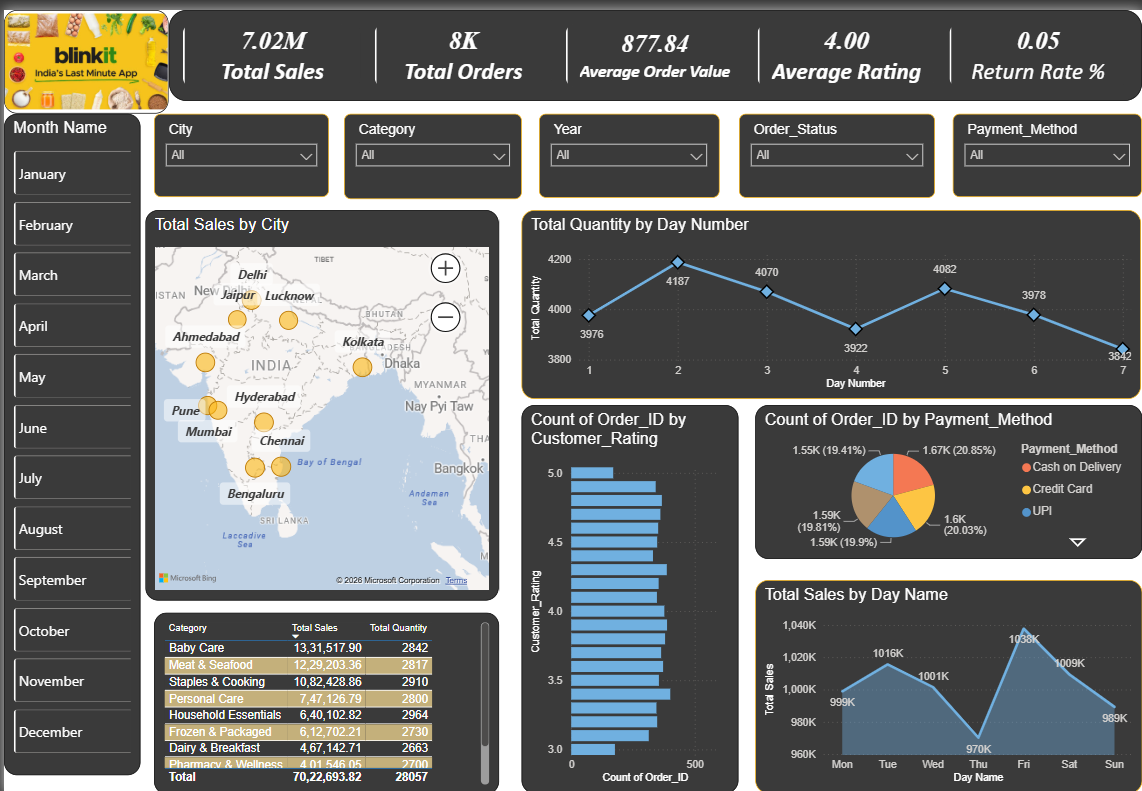

Layout of this report page (visuals, bound fields, positions):
{"tool":"powerbi","page":{"name":"Page 1","canvas":[1300,895],"ordinal":0},"visuals":[{"type":"cardVisual","fields":{"Data":["Table.Total Sales","Table.Total Orders","Table.Average Order Value","Table.Average Rating","Table.Return Rate %"]},"box":[188,0,1112,104],"z":0},{"type":"slicer","fields":{"Values":["blinkit_sales_data.Category"]},"box":[388,118,203.5,97.7],"z":1000},{"type":"slicer","fields":{"Values":["blinkit_sales_data.Payment_Method"]},"box":[1084,118,216.3,95.3],"z":2000},{"type":"slicer","fields":{"Values":["blinkit_sales_data.City"]},"box":[172,118,200,95.3],"z":3000},{"type":"image","box":[0,0,188,118],"z":4000},{"type":"advancedSlicerVisual","fields":{"Values":["Calendar.Month Name"]},"box":[0,118,156,756],"z":5000},{"type":"slicer","fields":{"Values":["blinkit_sales_data.Order_Status"]},"box":[840,118,224,96],"z":6000},{"type":"slicer","fields":{"Values":["Calendar.Year"]},"box":[612,118,206,96],"z":12000},{"type":"map","fields":{"Category":["blinkit_sales_data.City"],"Size":["Table.Total Sales"]},"box":[162,228,404,446],"z":12001},{"type":"tableEx","fields":{"Values":["blinkit_sales_data.Category","Table.Total Sales","Table.Total Quantity"]},"box":[172,688,394,208],"z":12002},{"type":"lineChart","fields":{"Y":["Table.Total Quantity"],"Category":["Calendar.Day Number"]},"box":[592,228,708,216],"z":12003},{"type":"areaChart","fields":{"Category":["Calendar.Day Name"],"Y":["Table.Total Sales"]},"box":[858,652,442,244],"z":12004},{"type":"pieChart","fields":{"Category":["blinkit_sales_data.Payment_Method"],"Y":["Count(blinkit_sales_data.Order_ID)"]},"box":[858,452,442,176],"z":12005},{"type":"barChart","fields":{"Category":["blinkit_sales_data.Customer_Rating"],"Y":["CountNonNull(blinkit_sales_data.Order_ID)"]},"box":[592,452,248,444],"z":12006}]}

Visuals, with their boxes in screenshot pixels (x1, y1, x2, y2), scaled from the page's 1300x895 canvas onto the 1142x791 screenshot:
cardVisual - Table.Total Sales x Table.Total Orders: (x1=165, y1=0, x2=1141, y2=92)
slicer - blinkit_sales_data.Category: (x1=341, y1=104, x2=520, y2=191)
slicer - blinkit_sales_data.Payment_Method: (x1=952, y1=104, x2=1141, y2=189)
slicer - blinkit_sales_data.City: (x1=151, y1=104, x2=327, y2=189)
image: (x1=0, y1=0, x2=165, y2=104)
advancedSlicerVisual - Calendar.Month Name: (x1=0, y1=104, x2=137, y2=772)
slicer - blinkit_sales_data.Order_Status: (x1=738, y1=104, x2=935, y2=189)
slicer - Calendar.Year: (x1=538, y1=104, x2=719, y2=189)
map - blinkit_sales_data.City x Table.Total Sales: (x1=142, y1=202, x2=497, y2=596)
tableEx - blinkit_sales_data.Category x Table.Total Sales: (x1=151, y1=608, x2=497, y2=790)
lineChart - Table.Total Quantity x Calendar.Day Number: (x1=520, y1=202, x2=1141, y2=392)
areaChart - Calendar.Day Name x Table.Total Sales: (x1=754, y1=576, x2=1141, y2=790)
pieChart - blinkit_sales_data.Payment_Method x Count(blinkit_sales_data.Order_ID): (x1=754, y1=399, x2=1141, y2=555)
barChart - blinkit_sales_data.Customer_Rating x CountNonNull(blinkit_sales_data.Order_ID): (x1=520, y1=399, x2=738, y2=790)
